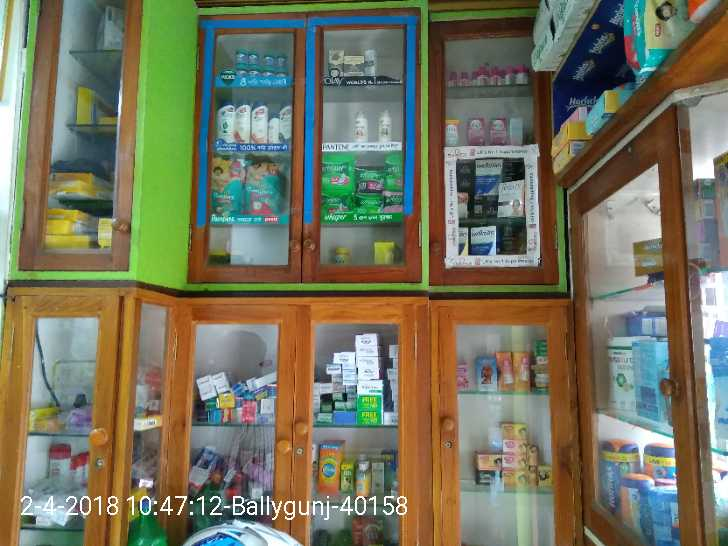vicks: (232, 46, 291, 78)
